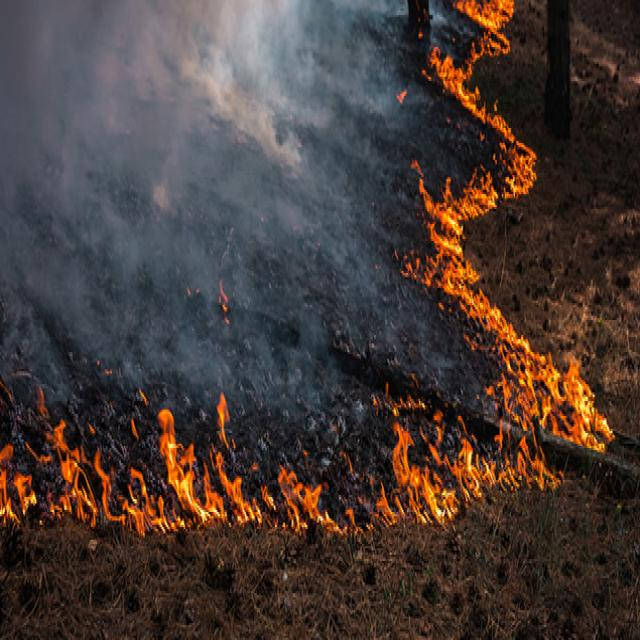fire: (392, 428, 554, 525), (160, 423, 251, 535), (55, 441, 150, 541), (425, 186, 492, 311), (492, 341, 592, 422), (431, 57, 488, 121), (454, 0, 520, 54), (276, 467, 330, 529), (504, 123, 540, 204)
